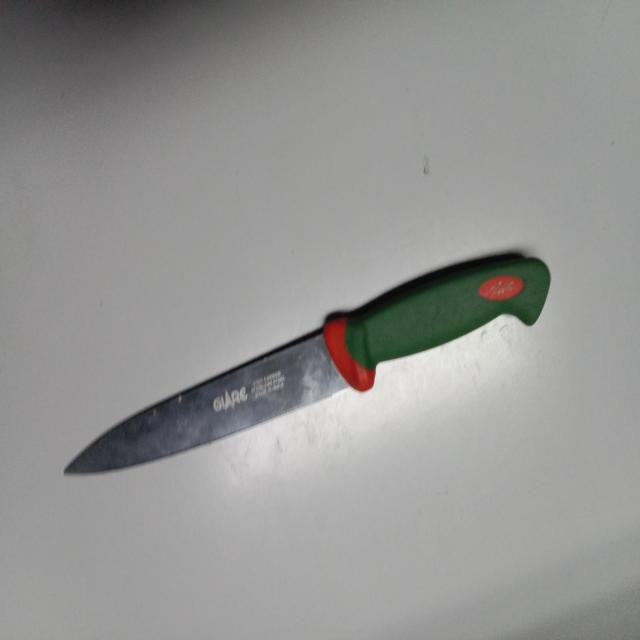Knife: (64, 253, 551, 474)
